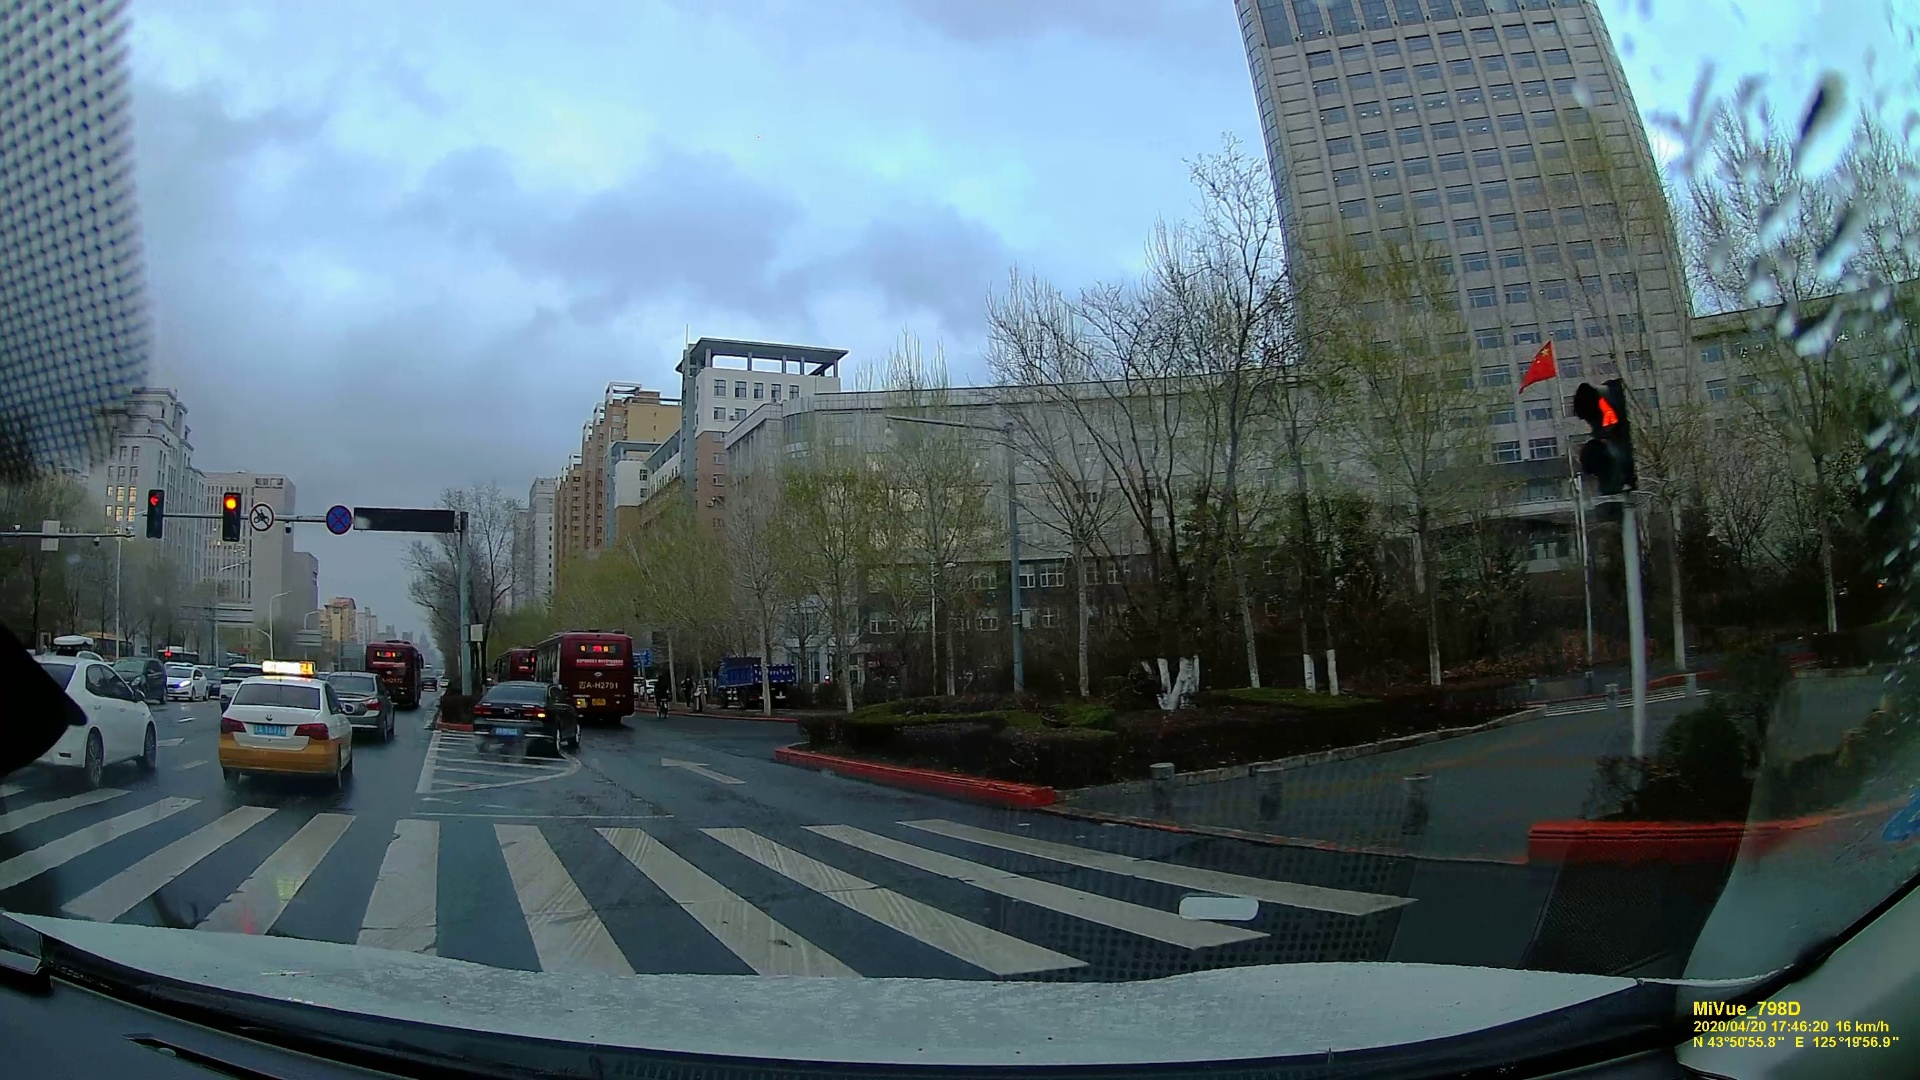bus: (535, 631, 636, 715), (360, 641, 418, 702)
person: (653, 674, 670, 718), (681, 675, 694, 707)
traffic_sign: (1569, 372, 1638, 495), (143, 488, 168, 539), (220, 490, 242, 541), (326, 505, 349, 536), (249, 502, 273, 531)
truck: (714, 657, 799, 710)
vehicle: (5, 649, 159, 784), (209, 671, 353, 793), (466, 673, 584, 752), (323, 679, 389, 733)
